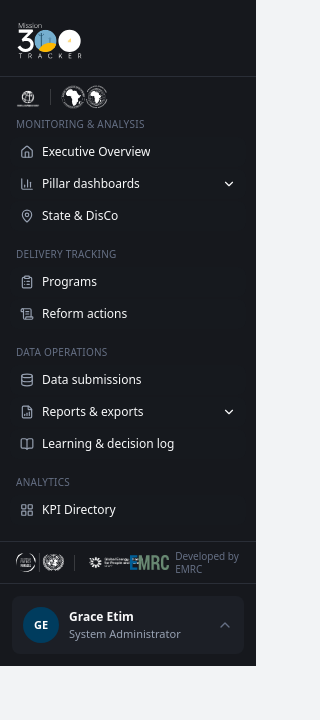
Scenario: Sidebar › navigation readiness › renders Reports & exports as a dropdown that reveals its four pages
This screenshot has width=320, height=720.
Click the button "Reports & exports". click: {"x": 128, "y": 412}
box: [10,397,246,427]
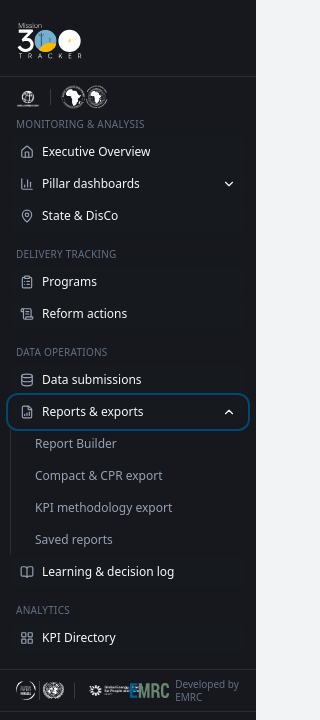
Expected: the button "Reports & exports" is expanded, [10,397,246,427]
